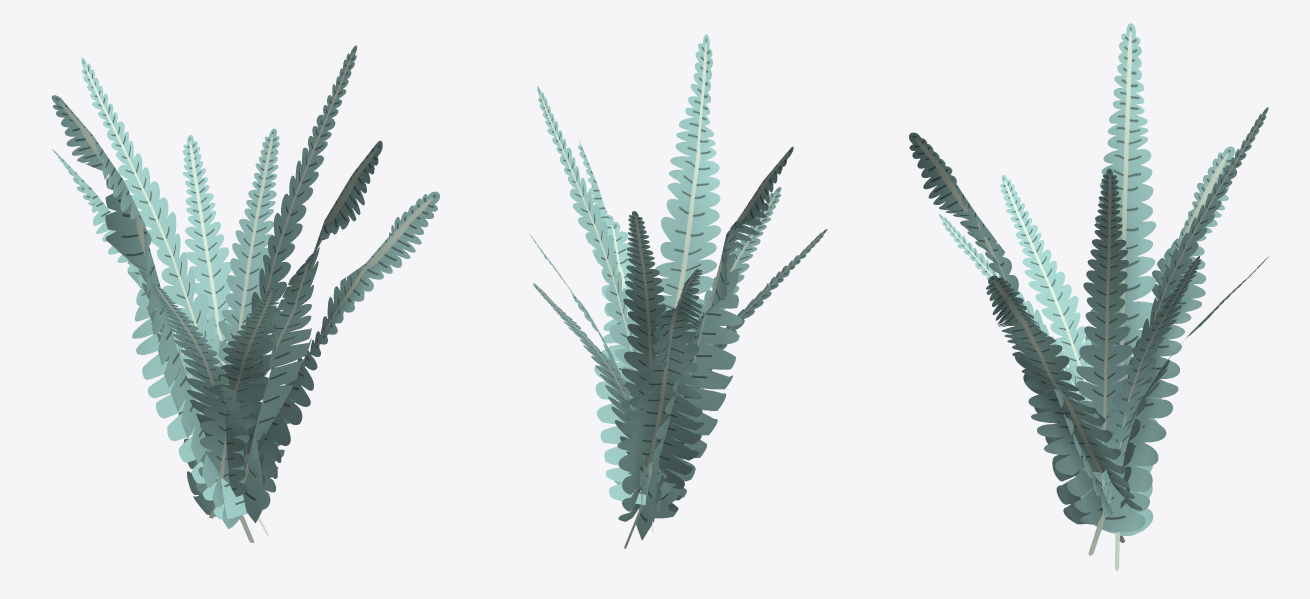
The model's file is fern02.fbx.
The picture shows the model from 3 angles, left to right: view 1: azimuth 30°, elevation 25°; view 2: azimuth 150°, elevation 25°; view 3: azimuth 270°, elevation 25°; orthographic projection. The views are drawn at different scales.
Visible parts, largest first — view 1: pPlane19, pPlane20, pPlane15, pPlane18, pPlane24, pPlane17, pPlane16, pPlane21, pPlane22, pPlane23; view 2: pPlane21, pPlane20, pPlane19, pPlane18, pPlane24, pPlane15, pPlane22, pPlane17, pPlane23, pPlane16; view 3: pPlane15, pPlane19, pPlane24, pPlane21, pPlane20, pPlane23, pPlane16, pPlane18, pPlane17, pPlane22.
Boxes of the visible parts, box(x1,y1,x2,y2) form: pPlane19: box(51, 95, 254, 542); pPlane20: box(243, 141, 382, 523); pPlane15: box(209, 191, 439, 518); pPlane18: box(81, 57, 220, 415); pPlane24: box(240, 45, 357, 485); pPlane17: box(196, 287, 279, 493); pPlane16: box(218, 128, 279, 450); pPlane21: box(52, 149, 269, 535); pPlane22: box(182, 135, 236, 409); pPlane23: box(150, 283, 247, 496); pPlane21: box(617, 268, 703, 521); pPlane20: box(614, 34, 720, 536); pPlane19: box(624, 146, 793, 548); pPlane18: box(621, 211, 674, 501); pPlane24: box(537, 86, 642, 398); pPlane15: box(578, 140, 653, 533); pPlane22: box(533, 283, 658, 495); pPlane17: box(656, 187, 781, 512); pPlane23: box(654, 229, 827, 503); pPlane16: box(528, 231, 646, 506); pPlane15: box(986, 275, 1142, 524); pPlane19: box(1085, 23, 1161, 571); pPlane24: box(1076, 168, 1133, 514); pPlane21: box(1088, 146, 1234, 555); pPlane20: box(909, 132, 1124, 542); pPlane23: box(1000, 174, 1098, 401); pPlane16: box(1102, 256, 1201, 516); pPlane18: box(1120, 107, 1268, 508); pPlane17: box(939, 213, 1089, 423); pPlane22: box(1104, 256, 1268, 517).
Bounding box in the file's own units: 1.04 × 1.46 × 1.17.
